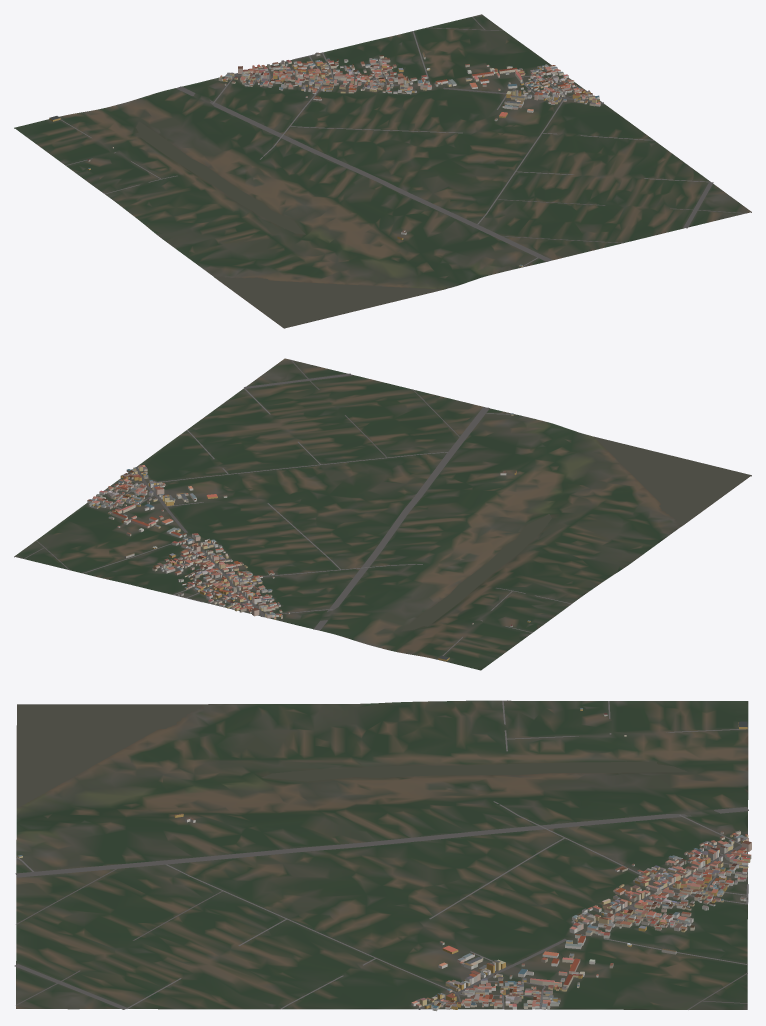
3 renders of one model, top to bottom at view 1: azimuth 30°, elevation 25°; view 2: azimuth 150°, elevation 25°; view 3: azimuth 270°, elevation 25°, orthographic. The views are drawn at different scales.
Visible parts, largest first — view 1: ground, water, buildings, roads; view 2: ground, water, buildings, roads; view 3: ground, water, buildings, roads.
Boxes of the visible parts, x1,y1,x2,y2 form: ground: [14, 14, 751, 328]; water: [135, 121, 441, 327]; buildings: [49, 52, 600, 266]; roads: [60, 16, 746, 267]; ground: [14, 358, 751, 670]; water: [401, 436, 750, 631]; buildings: [87, 413, 530, 661]; roads: [23, 359, 571, 659]; ground: [16, 700, 748, 1009]; water: [17, 704, 686, 807]; buildings: [17, 708, 751, 1011]; roads: [14, 700, 748, 1009].
Bounding box in the file's own units: 1407 × 28.01 × 1414.
